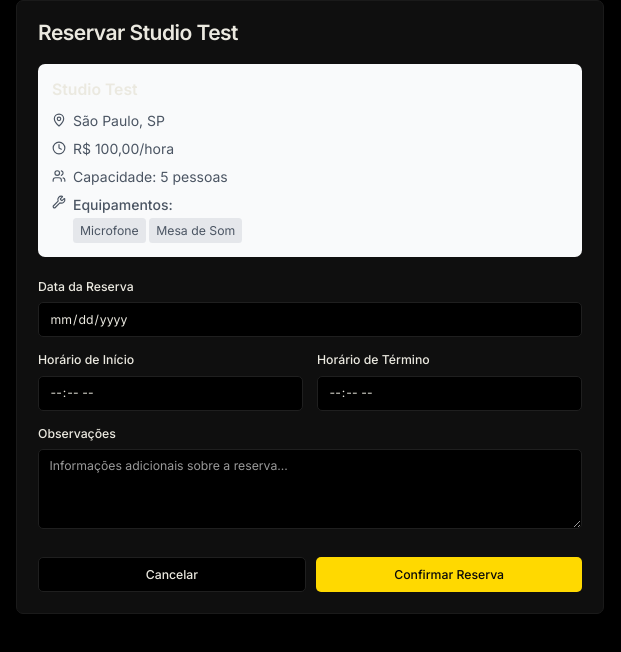
Test: BookingForm › deve validar horários (término deve ser após início)
This screenshot has width=621, height=652.
Type "2024-01-20" into the date field labelled "Data da Reserva" at (310, 320), box [38, 302, 582, 337]
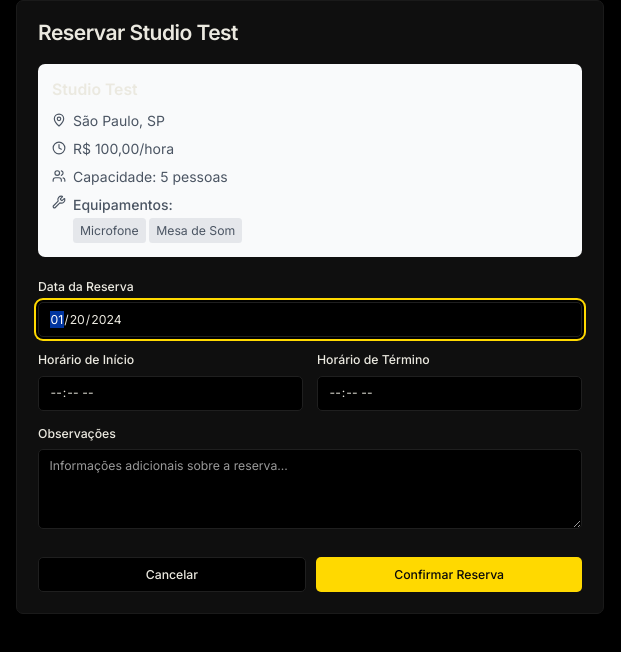
Type "14:00" into the time field labelled "Horário de Início" at (170, 393), box [38, 376, 303, 410]
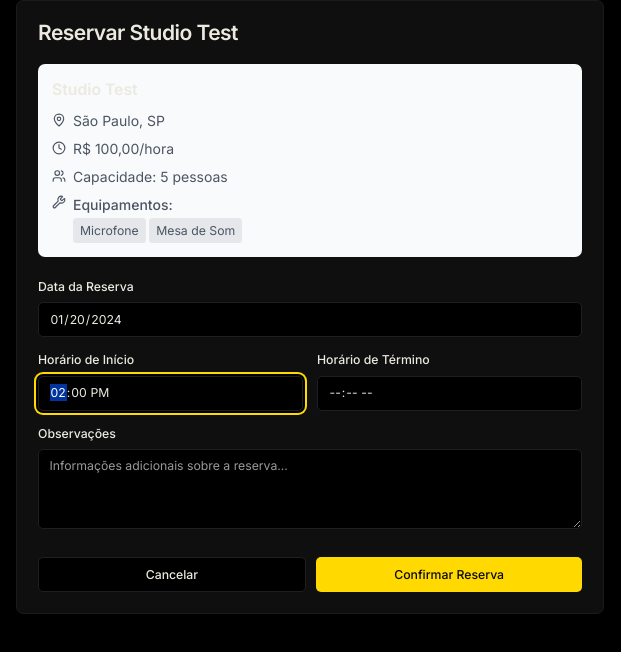
Type "12:00" into the time field labelled "Horário de Término" at (450, 393), box [317, 376, 582, 410]
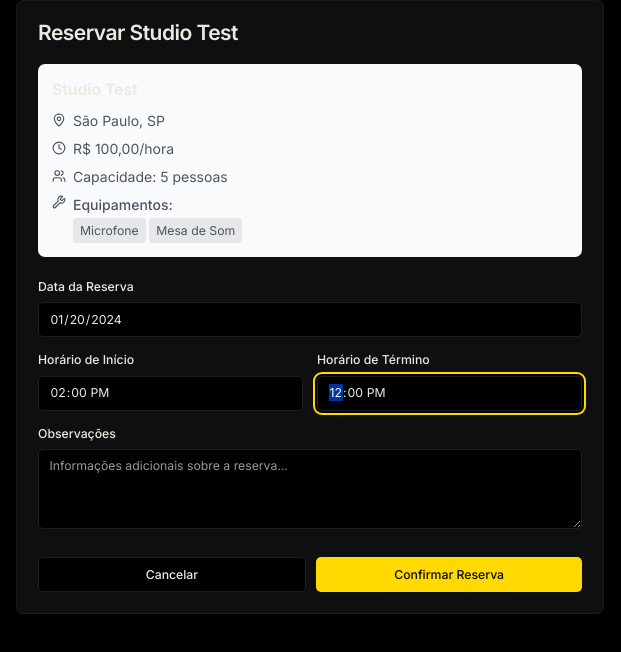
Click the button "Confirmar Reserva" at (449, 574), box [316, 557, 582, 592]
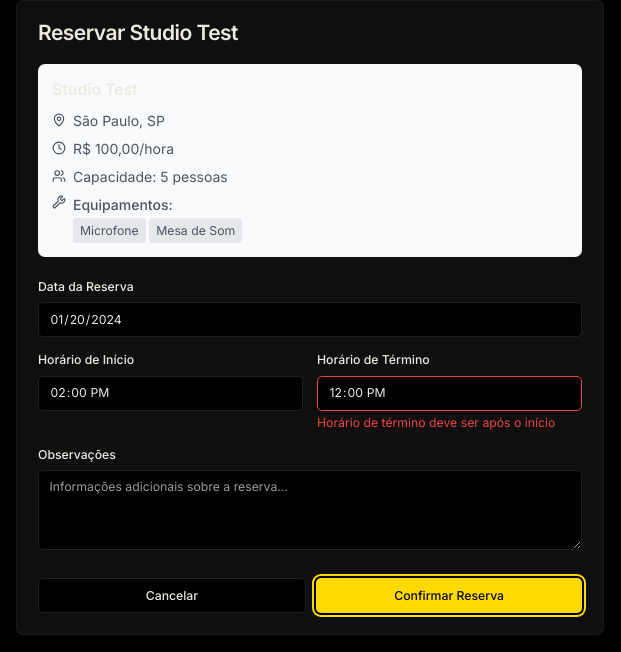
Result: the text "Horário de término deve ser após o início" is shown at [317, 414, 582, 432]
